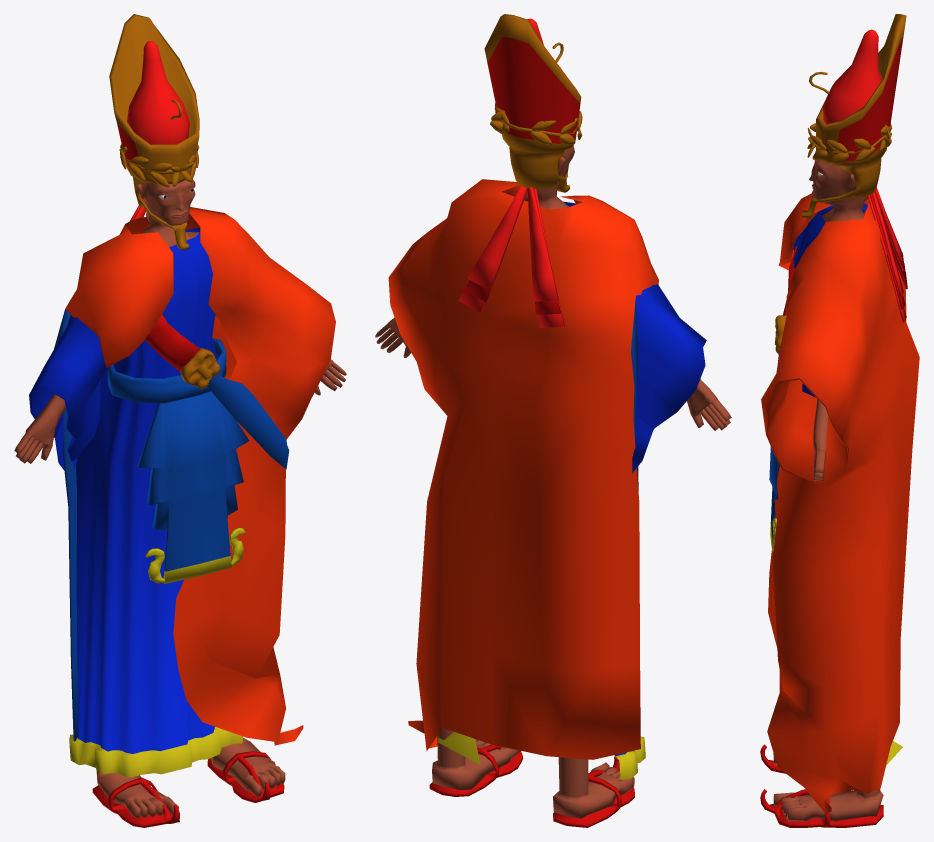
File: Faraon.FBX
The picture shows the model from 3 angles, left to right: view 1: azimuth 30°, elevation 25°; view 2: azimuth 150°, elevation 25°; view 3: azimuth 270°, elevation 25°; orthographic projection. The views are drawn at different scales.
Visible parts, largest first — view 1: Cube_000; view 2: Cube_000; view 3: Cube_000.
Boxes of the visible parts, x1=… form: Cube_000: x1=14, y1=14, x2=346, y2=827; Cube_000: x1=375, y1=14, x2=731, y2=827; Cube_000: x1=760, y1=14, x2=919, y2=827.
Size of the model in its own units: 16.28 by 35.68 by 6.72.
